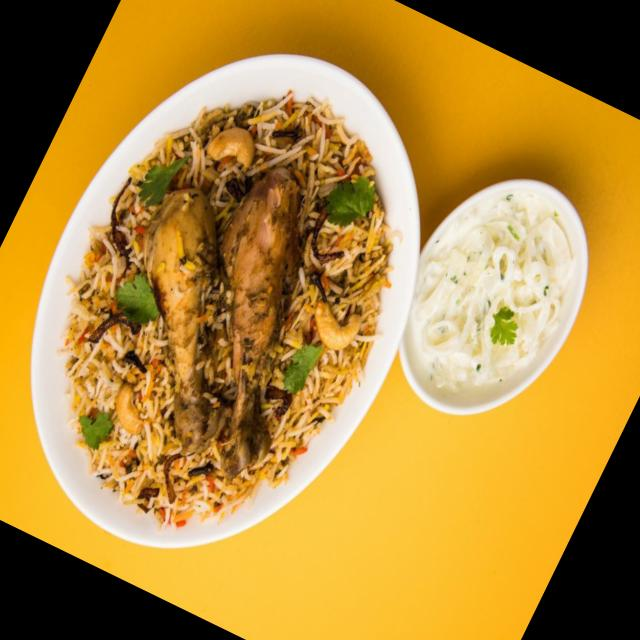Biryani: (0, 25, 470, 584)
